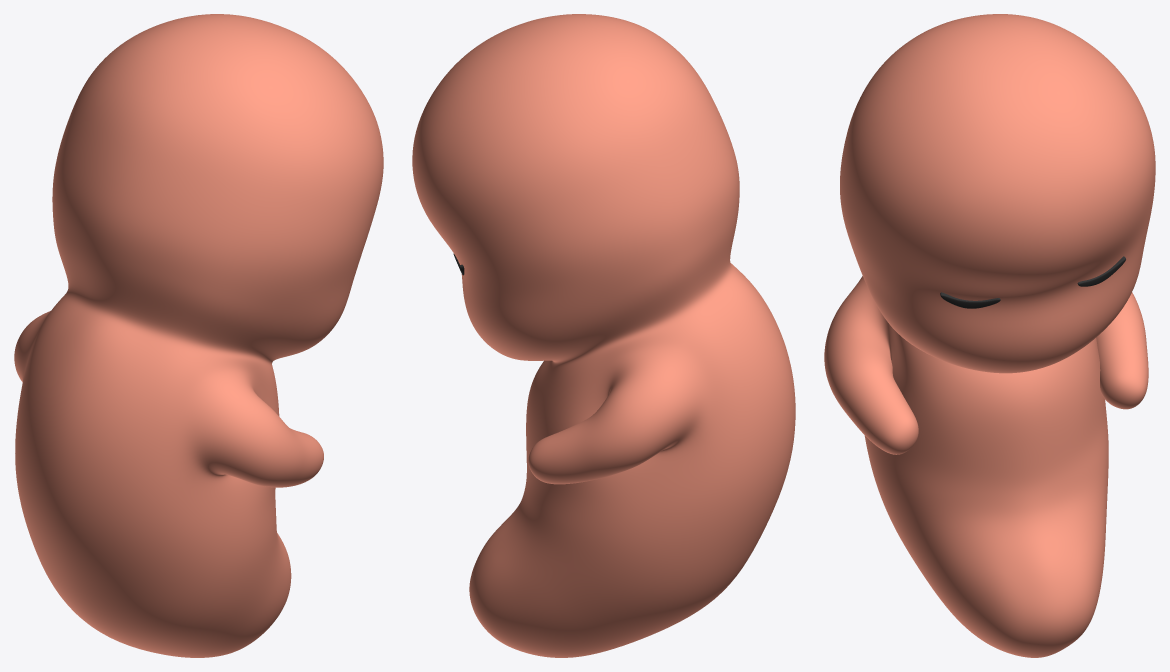
File: BABY1M.glb
The picture shows the model from 3 angles, left to right: view 1: azimuth 30°, elevation 25°; view 2: azimuth 150°, elevation 25°; view 3: azimuth 270°, elevation 25°; orthographic projection. The views are drawn at different scales.
Parts seen in each view (by area): view 1: Roundcube.002; view 2: Roundcube.002; view 3: Roundcube.002.
Boxes of the visible parts, <box> form: Roundcube.002: <box>14,14,383,657</box>; Roundcube.002: <box>412,14,795,657</box>; Roundcube.002: <box>824,14,1155,657</box>.
Bounding box in the file's own units: 1.03 × 1.81 × 0.8881.
